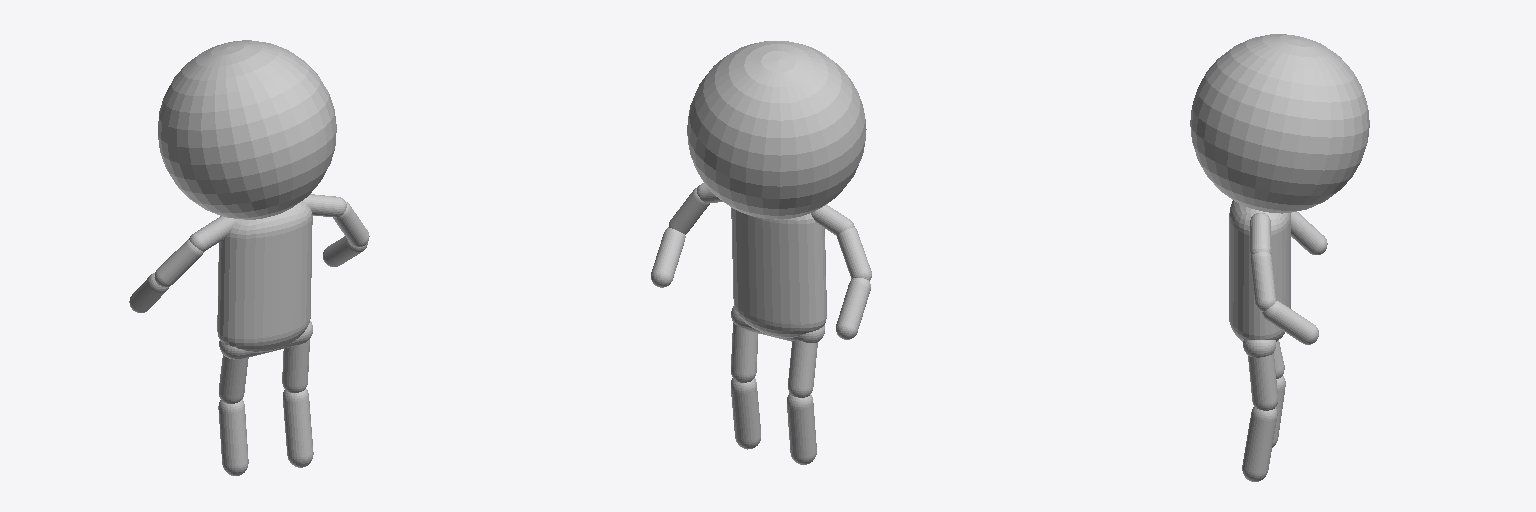
File: Stickman_000059.obj
3 renders of one model, left to right at view 1: azimuth 30°, elevation 25°; view 2: azimuth 150°, elevation 25°; view 3: azimuth 270°, elevation 25°, orthographic.
Parts seen in each view (by area): view 1: Head_Sphere.001, Body_Roundcube.002, LowerLegLeft_Roundcube.013, LowerLegRight_Roundcube.011, UpperLegLeft_Roundcube.012, UpperLegRight_Roundcube.010, UpperArmRight_Roundcube.015, ShoulderRight_Roundcube.014, UpperArmLeft_Roundcube.018, LowerArmRight_Roundcube.016, ShoulderLeft_Roundcube.017, LowerArmLeft_Roundcube.019 (+1 smaller); view 2: Head_Sphere.001, Body_Roundcube.002, LowerLegRight_Roundcube.011, LowerLegLeft_Roundcube.013, UpperLegRight_Roundcube.010, LowerArmRight_Roundcube.016, UpperLegLeft_Roundcube.012, LowerArmLeft_Roundcube.019, UpperArmRight_Roundcube.015, UpperArmLeft_Roundcube.018, ShoulderRight_Roundcube.014, Hip_Roundcube.005; view 3: Head_Sphere.001, Body_Roundcube.002, LowerLegLeft_Roundcube.013, UpperLegLeft_Roundcube.012, LowerArmLeft_Roundcube.019, UpperArmLeft_Roundcube.018, LowerArmRight_Roundcube.016, ShoulderLeft_Roundcube.017.
Part boxes in pixels (x1,y1,x2,y2): Head_Sphere.001: (158,40,336,219); Body_Roundcube.002: (217,201,312,352); LowerLegLeft_Roundcube.013: (283,389,313,467); LowerLegRight_Roundcube.011: (218,399,248,475); UpperLegLeft_Roundcube.012: (282,339,309,392); UpperLegRight_Roundcube.010: (219,355,248,403); UpperArmRight_Roundcube.015: (154,239,203,286); ShoulderRight_Roundcube.014: (189,216,237,251); UpperArmLeft_Roundcube.018: (333,201,369,246); LowerArmRight_Roundcube.016: (129,273,168,312); ShoulderLeft_Roundcube.017: (302,194,346,217); LowerArmLeft_Roundcube.019: (323,236,367,266); Head_Sphere.001: (687,41,866,219); Body_Roundcube.002: (731,208,826,337); LowerLegRight_Roundcube.011: (787,393,816,464); LowerLegLeft_Roundcube.013: (731,378,760,449); UpperLegRight_Roundcube.010: (788,340,817,397); LowerArmRight_Roundcube.016: (836,278,870,339); UpperLegLeft_Roundcube.012: (731,323,757,382); LowerArmLeft_Roundcube.019: (651,227,685,287); UpperArmRight_Roundcube.015: (837,227,871,280); UpperArmLeft_Roundcube.018: (669,187,709,234); ShoulderRight_Roundcube.014: (811,204,854,235); Hip_Roundcube.005: (731,306,824,342); Head_Sphere.001: (1190,34,1369,213); Body_Roundcube.002: (1229,200,1290,341); LowerLegLeft_Roundcube.013: (1242,407,1277,481); UpperLegLeft_Roundcube.012: (1248,353,1277,410); LowerArmLeft_Roundcube.019: (1262,300,1318,344); UpperArmLeft_Roundcube.018: (1251,252,1276,311); LowerArmRight_Roundcube.016: (1291,212,1327,254); ShoulderLeft_Roundcube.017: (1250,213,1270,254).
Bounding box in the file's own units: 6.61 × 12.37 × 4.81.